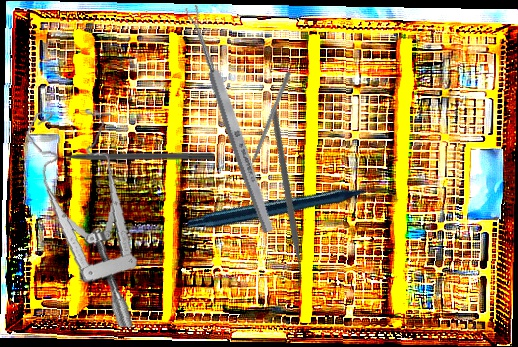Chopper: (193, 106, 373, 291)
Handpiece: (184, 116, 396, 304)
Pusher: (243, 70, 292, 178), (43, 151, 214, 160)
Speculum: (7, 102, 156, 329)
Surgical Spoon: (183, 3, 277, 235)
